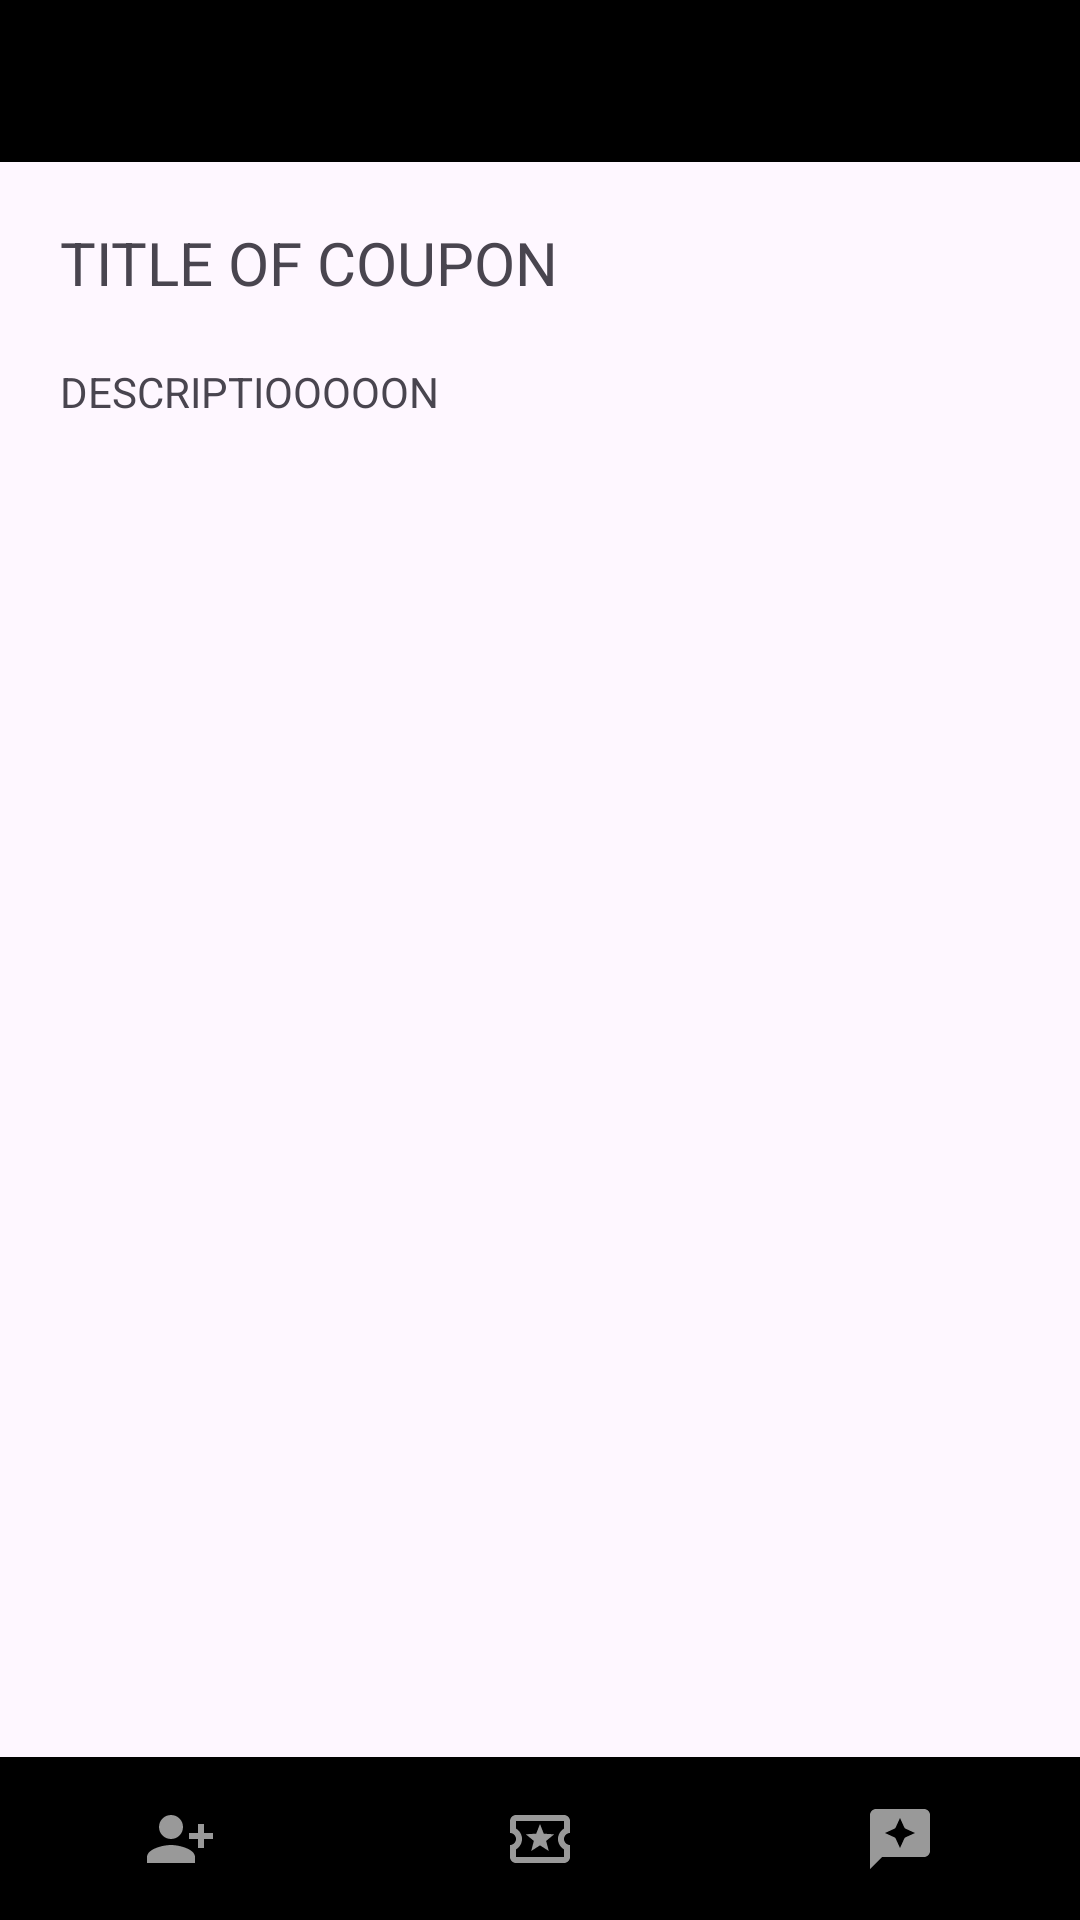

Locate icon controls on the screen. Image size 1080x1920, boxes as (x1, y1, x2, y2).
local activity: (510, 1815, 570, 1863)
person add: (147, 1815, 213, 1863)
reviews: (870, 1809, 930, 1869)
